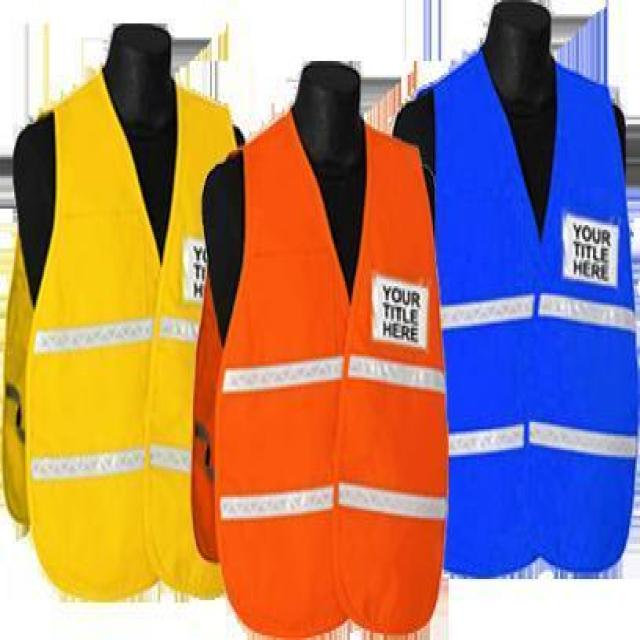Vest: (198, 96, 450, 638), (3, 65, 240, 602), (426, 35, 638, 572)
